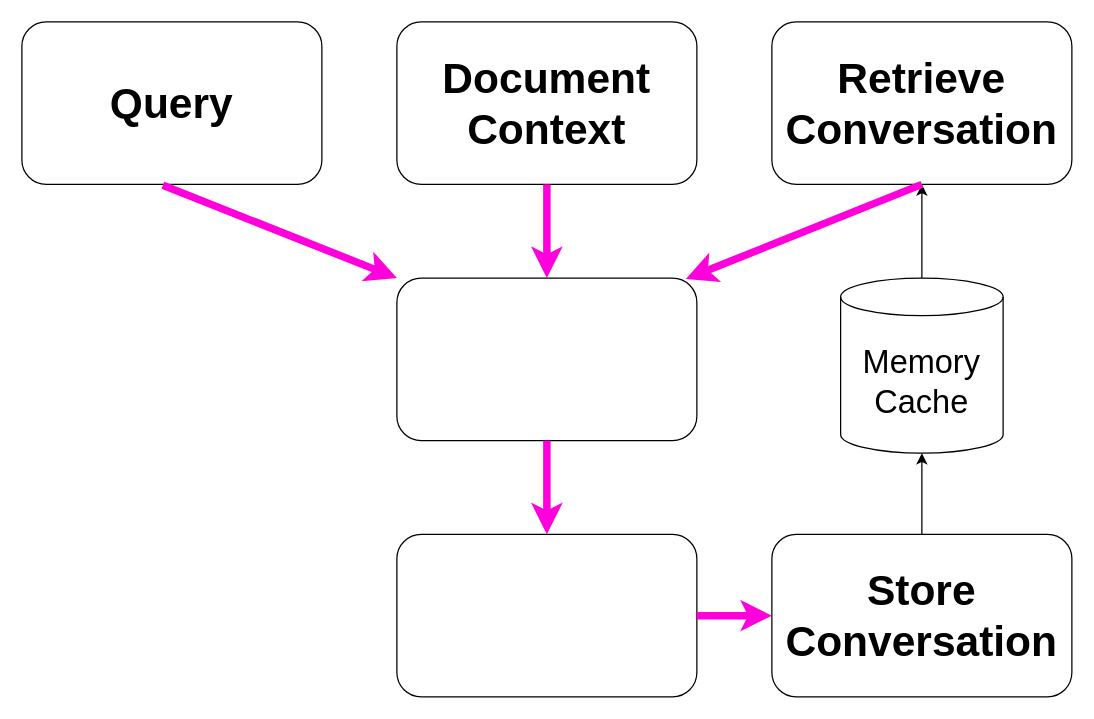
The diagram is 1094 pixels wide and 719 high, and some of its shapes have lost their labels. The shapes that lost their labels are listed below. From the top down, each one's box as (x1, y1, x2, y2) in pixels, then its label:
(396, 277, 697, 441): Prompt
(396, 533, 697, 697): LLM
